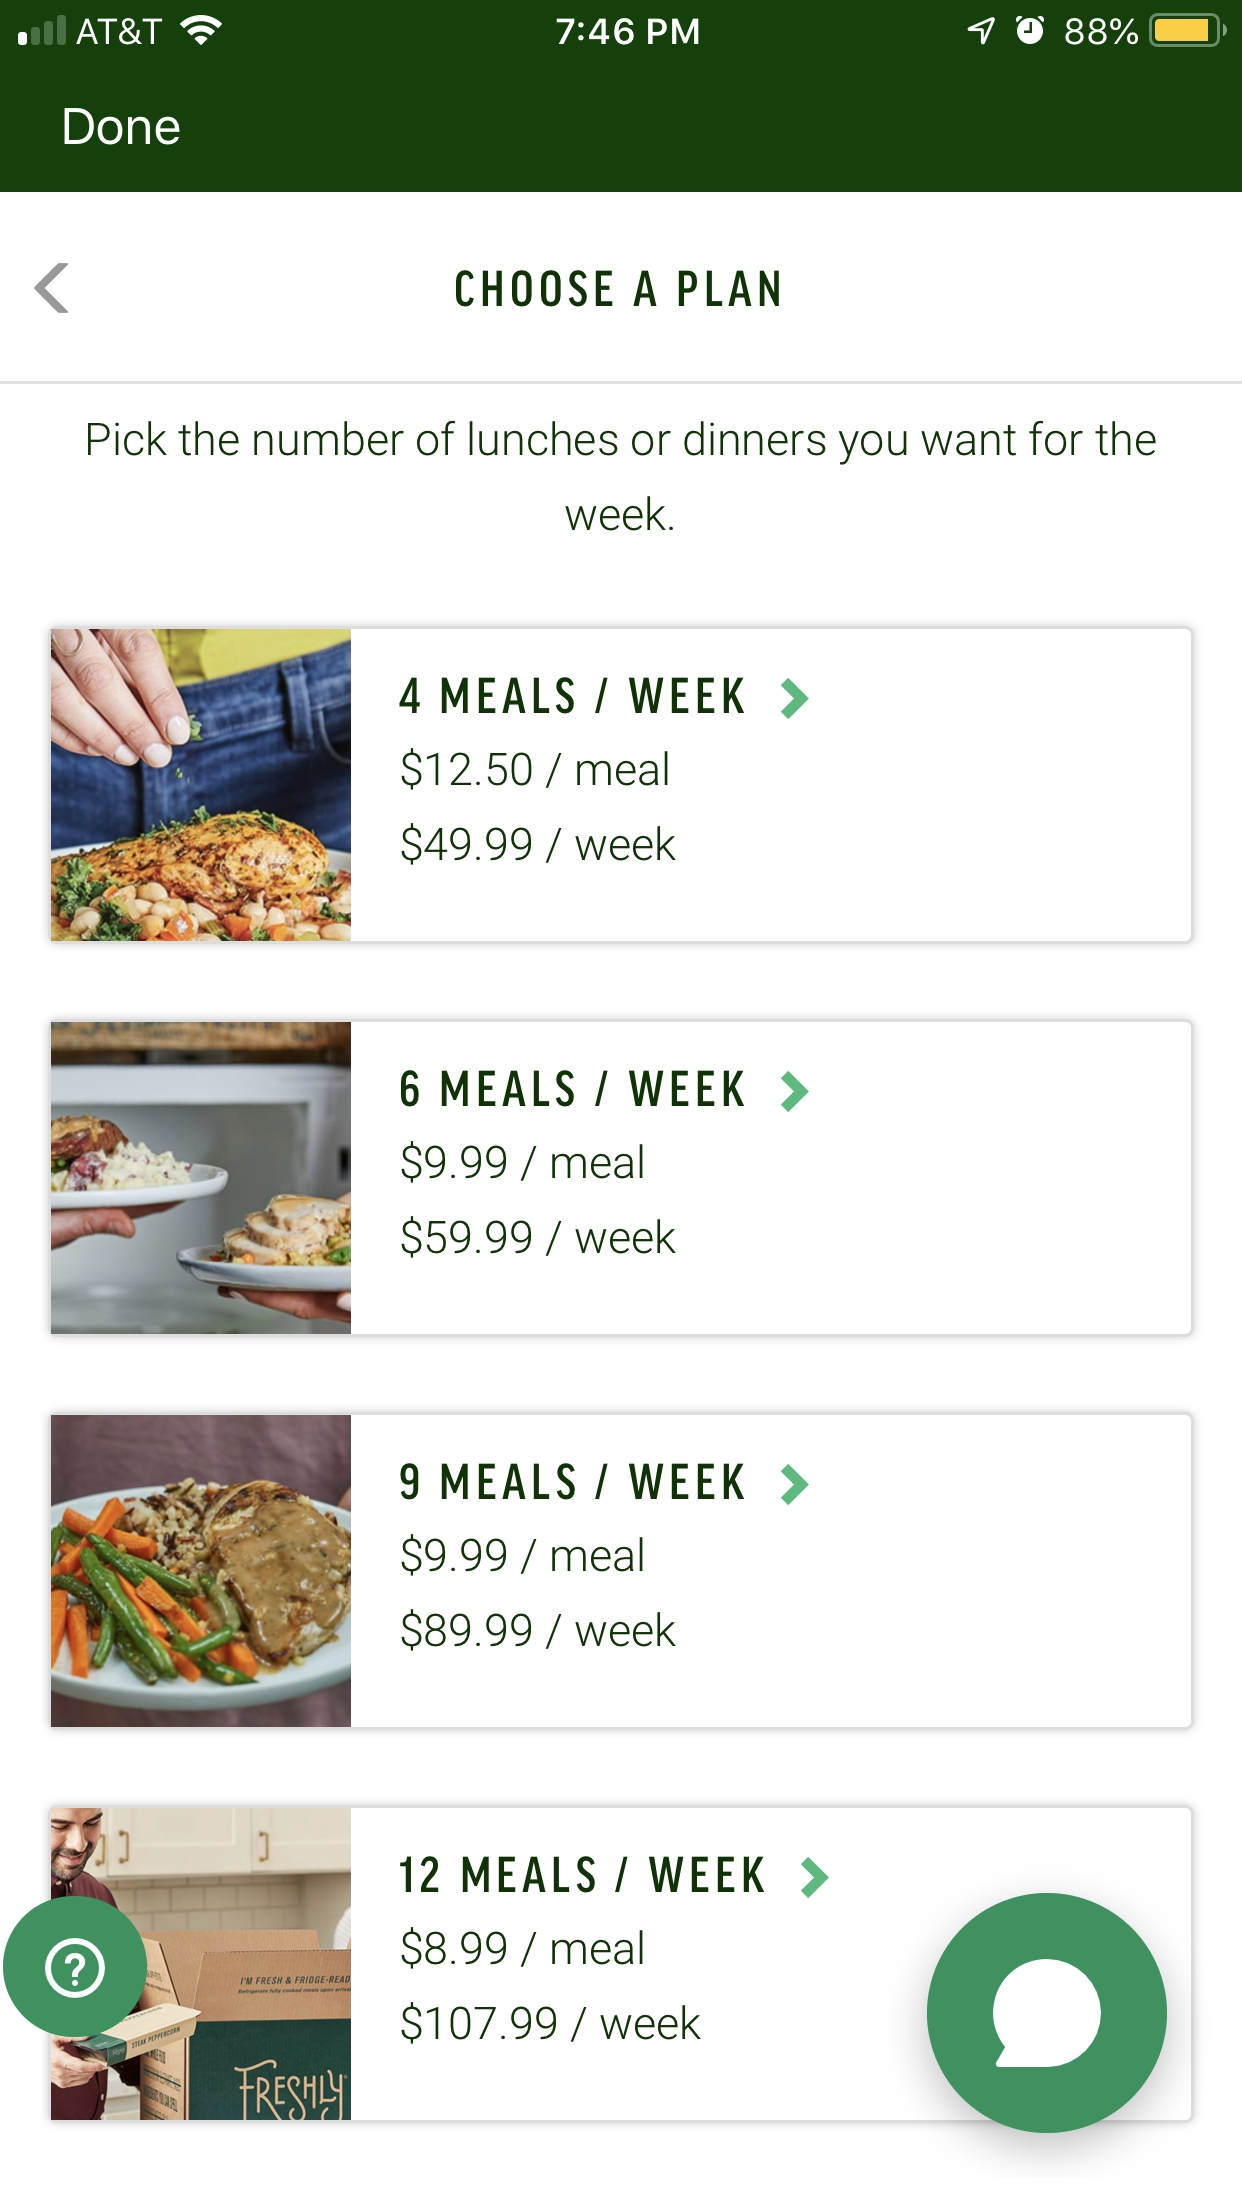Icon: (927, 1893, 1168, 2134), (3, 1896, 149, 2038), (35, 262, 70, 314), (779, 678, 810, 720), (781, 1071, 810, 1113), (781, 1463, 810, 1506), (801, 1856, 830, 1899)
Image: (52, 1808, 352, 2122), (52, 1415, 352, 1727), (52, 1022, 352, 1335), (52, 629, 352, 942)
Text: (89, 422, 1157, 532), (400, 1855, 764, 1893), (399, 676, 745, 714), (400, 1071, 745, 1109), (400, 1463, 745, 1501), (402, 2002, 702, 2044), (456, 270, 779, 308), (400, 748, 669, 792), (400, 823, 676, 866), (400, 1216, 676, 1259), (400, 1609, 676, 1651), (400, 1140, 645, 1184), (400, 1535, 645, 1577), (400, 1927, 645, 1970), (64, 108, 180, 147)
UpperTaskBar: (2, 2, 1242, 49)
